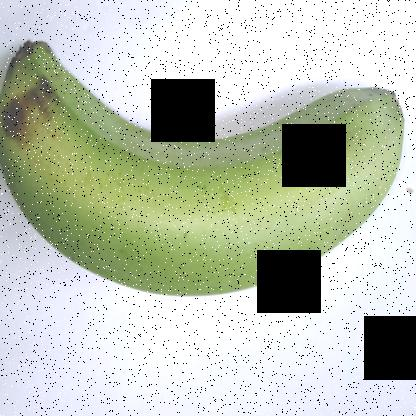freshunripe: (0, 19, 411, 307)
